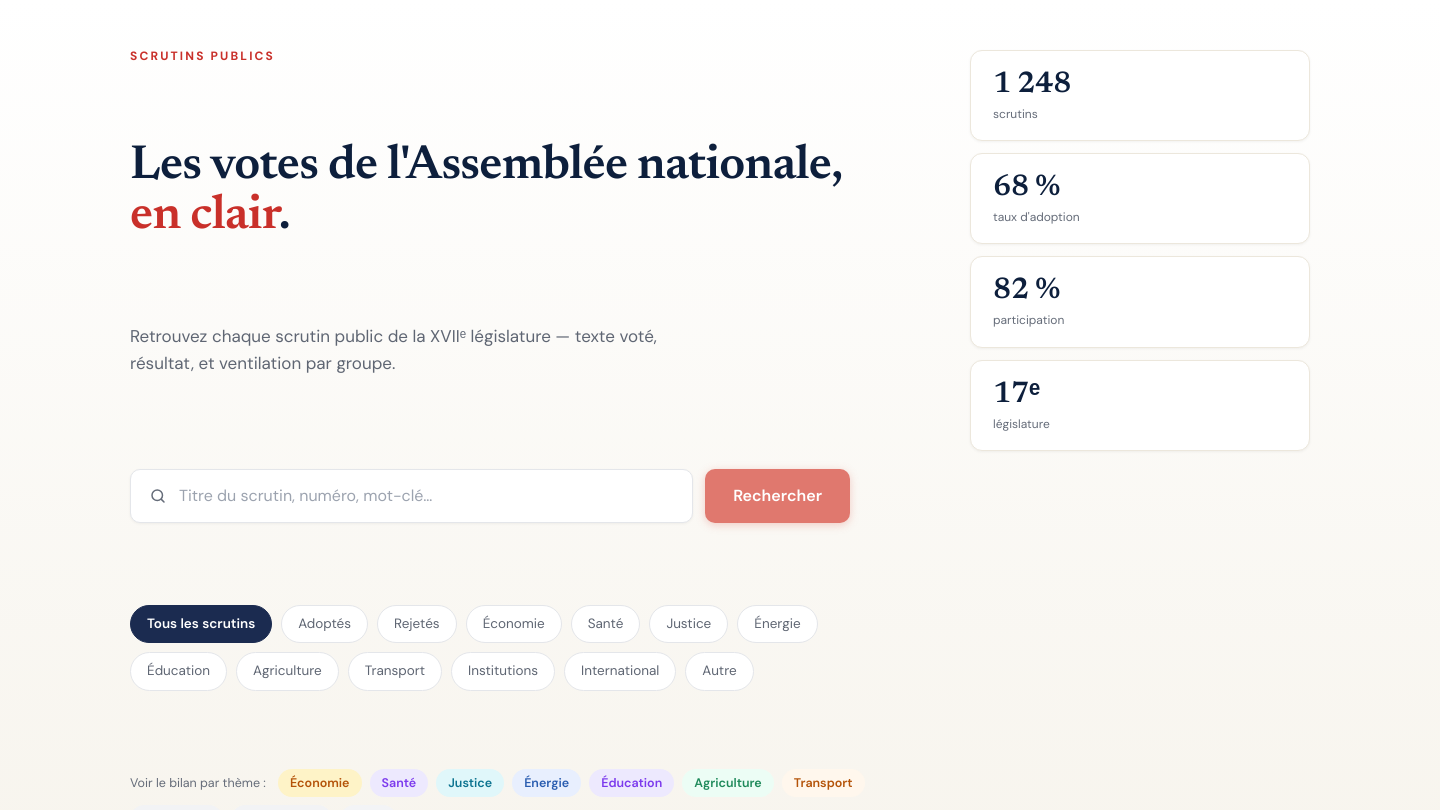
Test: VotesClient loading treatment (MON-215) › shows the layout-matched row skeleton for a delayed completion
The image size is (1440, 810).
Click the button "Adoptés" at (325, 624), box [281,605,368,644]
Wait 1550 ms
(page scrolled)
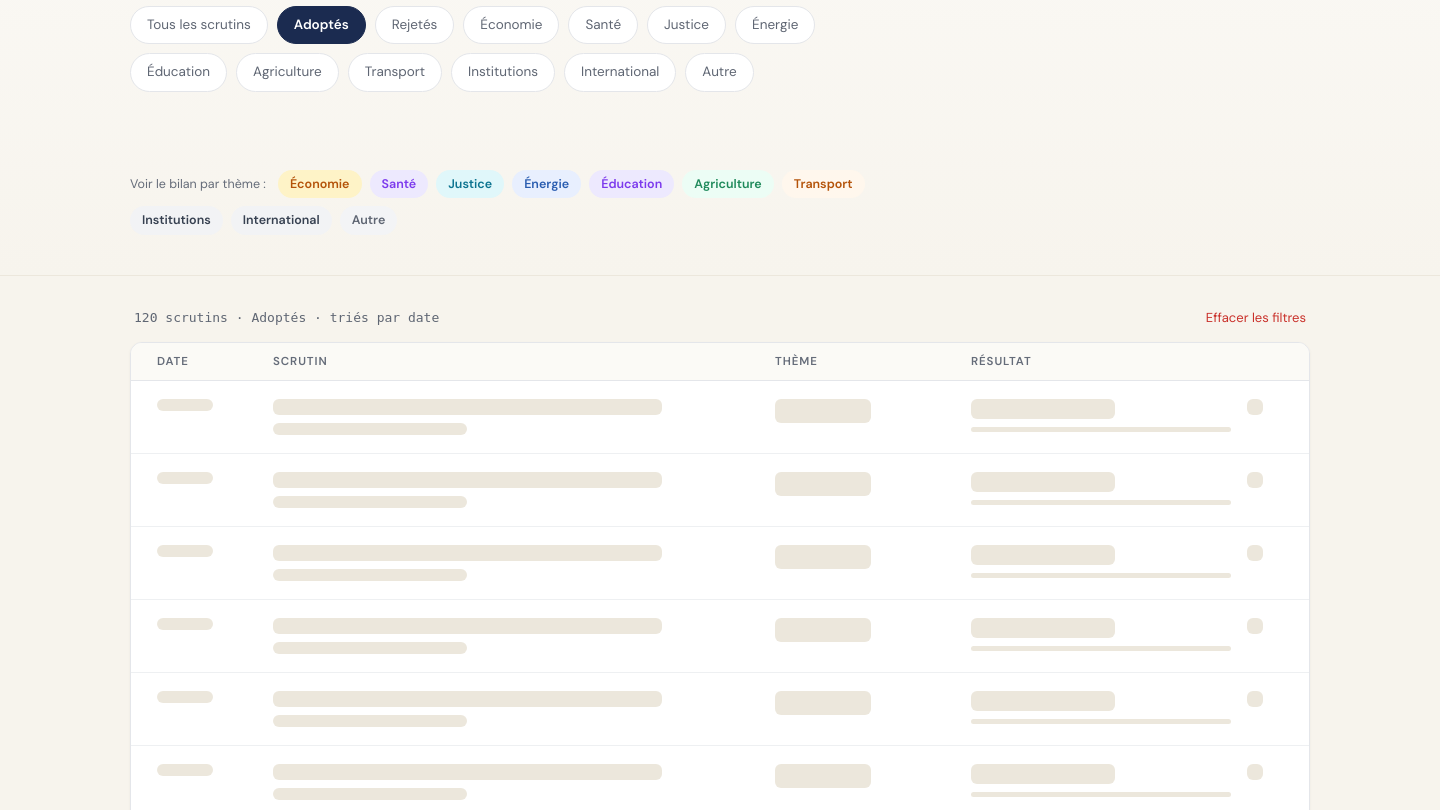
Expected: the 1st element with class "dp-skeleton-block" is shown, [157,399,213,411]
